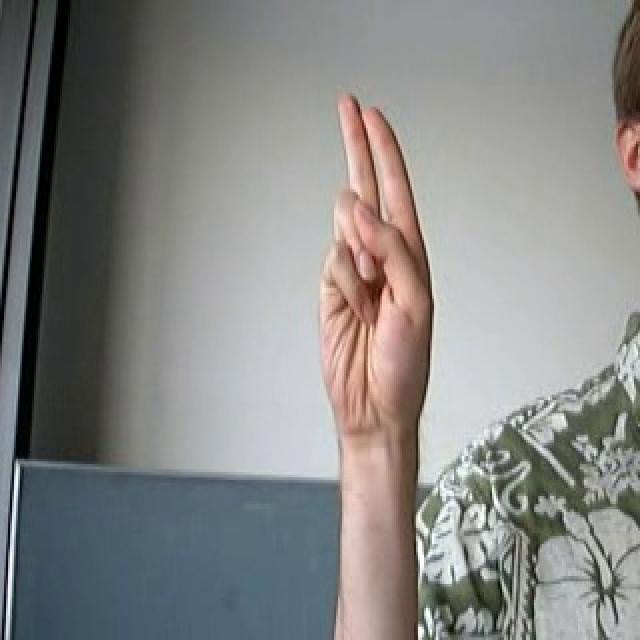U: (277, 71, 451, 455)
